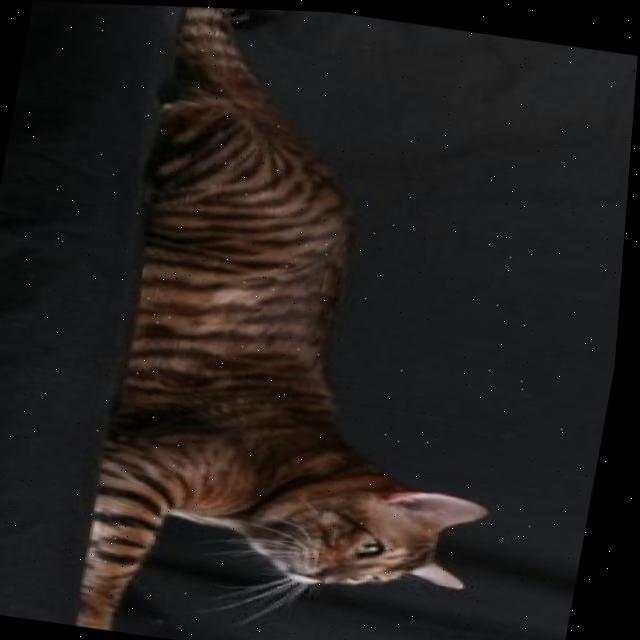Toyger: (69, 3, 579, 640)
